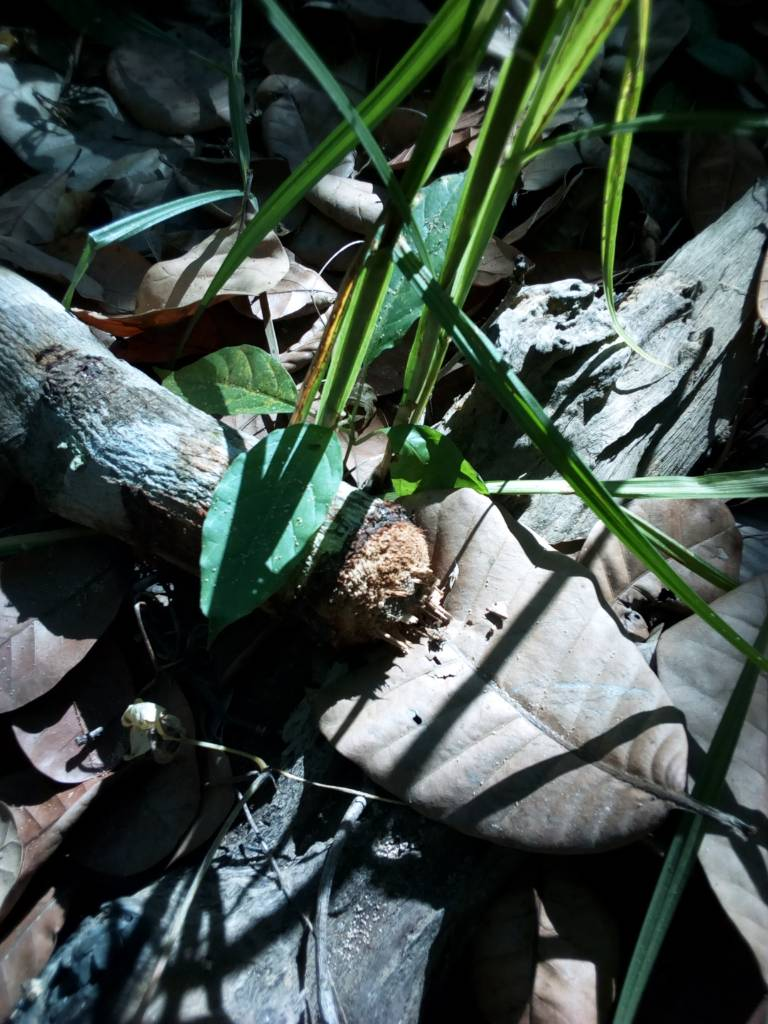Analepse trifasciata: (310, 489, 460, 664)
